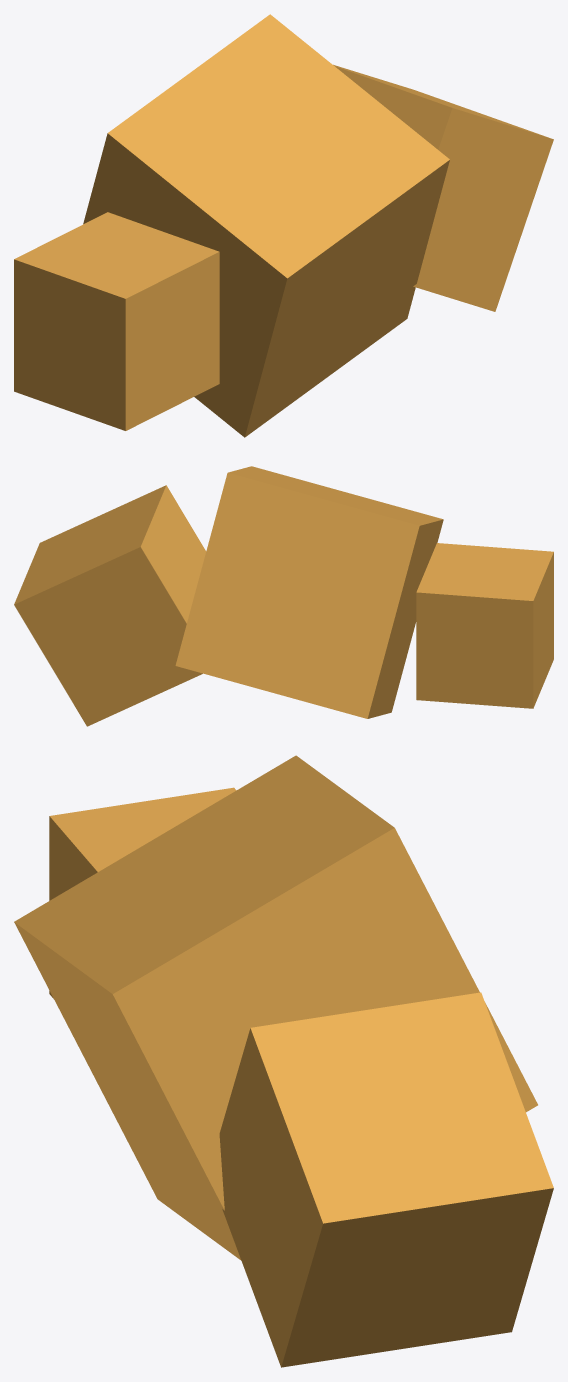
Rendered from imported-cubes.gltf.
The picture shows the model from 3 angles, top to bottom: view 1: azimuth 30°, elevation 25°; view 2: azimuth 150°, elevation 25°; view 3: azimuth 270°, elevation 25°; orthographic projection. The views are drawn at different scales.
Parts seen in each view (by area): view 1: Shared bevel-free cube (×3); view 2: Shared bevel-free cube (×3); view 3: Shared bevel-free cube (×3).
Boxes of the visible parts, x1=… form: Shared bevel-free cube (×3): x1=14, y1=14, x2=553, y2=437; Shared bevel-free cube (×3): x1=14, y1=466, x2=553, y2=726; Shared bevel-free cube (×3): x1=14, y1=755, x2=553, y2=1367.
Size of the model in its own units: 7.26 by 4.01 by 4.4.
